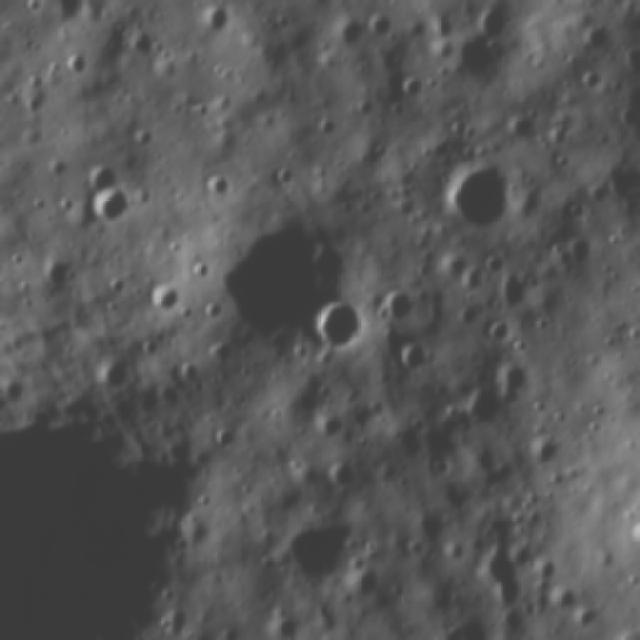crater: (0, 412, 222, 640), (191, 213, 358, 344), (448, 535, 530, 613), (434, 158, 514, 237), (284, 510, 350, 588), (309, 300, 365, 355), (457, 384, 509, 433), (376, 280, 424, 326), (90, 186, 136, 229), (392, 341, 438, 381), (493, 355, 533, 399), (144, 278, 188, 316), (91, 358, 135, 396), (523, 429, 563, 468), (496, 274, 535, 311), (329, 15, 369, 51), (312, 405, 350, 440), (85, 166, 126, 197), (504, 112, 544, 143), (328, 454, 358, 494), (365, 8, 400, 41), (205, 172, 241, 202), (127, 32, 161, 63), (487, 321, 521, 348), (199, 5, 232, 32), (61, 50, 90, 76), (457, 268, 485, 294), (581, 70, 607, 96), (402, 72, 424, 100), (271, 168, 295, 192), (624, 522, 640, 551), (0, 108, 2, 140)
